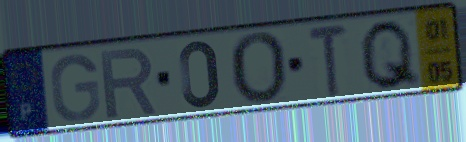0: (177, 38, 221, 111)
G: (48, 52, 103, 124)
O: (226, 29, 288, 108)
Q: (357, 17, 424, 93)
R: (97, 46, 160, 122)
T: (305, 23, 351, 99)
